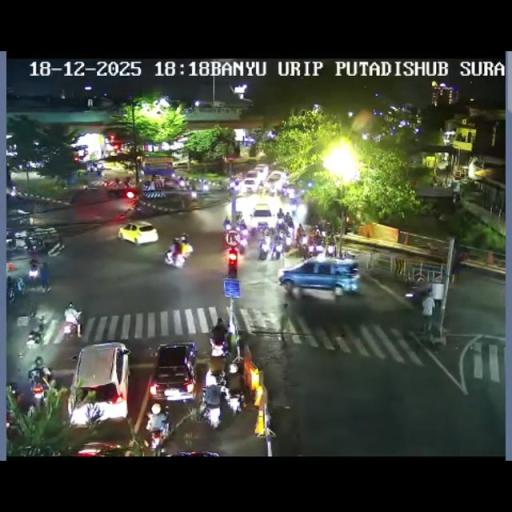Car: (68, 342, 130, 424), (278, 255, 361, 298), (148, 342, 198, 404), (118, 221, 158, 245), (404, 280, 434, 306), (72, 441, 125, 455), (250, 203, 274, 230), (106, 184, 136, 198), (266, 170, 286, 190), (242, 177, 259, 193), (254, 164, 268, 178)
Motorcycle: (198, 382, 226, 428), (144, 403, 170, 449), (165, 232, 192, 266), (27, 374, 48, 410), (5, 386, 22, 430), (59, 310, 81, 341), (207, 332, 230, 358), (228, 225, 250, 251), (225, 387, 244, 416), (27, 261, 41, 288), (26, 326, 43, 348), (274, 228, 288, 254), (258, 238, 270, 260), (187, 194, 202, 210), (316, 218, 330, 233), (35, 313, 46, 332), (339, 248, 355, 261), (305, 241, 317, 258), (6, 282, 15, 304), (25, 236, 37, 252), (313, 228, 324, 245), (326, 240, 336, 258), (228, 179, 239, 194), (288, 202, 298, 218), (276, 216, 286, 231), (295, 230, 303, 248), (6, 237, 16, 251), (222, 217, 232, 231), (234, 210, 244, 223), (287, 187, 296, 201), (184, 180, 194, 190), (284, 218, 294, 228), (179, 232, 188, 242), (143, 180, 151, 191), (102, 176, 110, 187), (123, 176, 131, 187), (86, 163, 94, 174), (202, 181, 208, 192), (178, 178, 184, 188), (114, 177, 120, 187)
